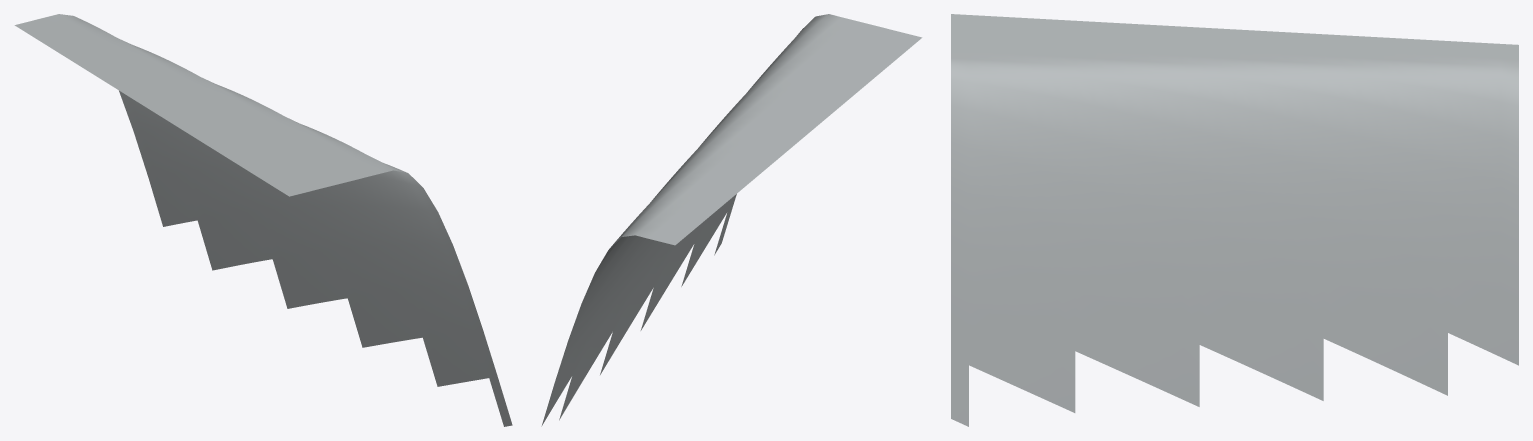
File: alpine-12-5.glb
3 views of the same model, side by side, from view 1: azimuth 30°, elevation 25°; view 2: azimuth 150°, elevation 25°; view 3: azimuth 270°, elevation 25° (orthographic). The views are drawn at different scales.
Parts seen in each view (by area): view 1: alpine-12-5; view 2: alpine-12-5; view 3: alpine-12-5.
Boxes of the visible parts, left/top/right/bottom form: alpine-12-5: left=14, top=14, right=512, bottom=426; alpine-12-5: left=541, top=14, right=922, bottom=426; alpine-12-5: left=951, top=14, right=1518, bottom=426.
Size of the model in its own units: 120 by 150 by 256.
1 material, 1 textured.
